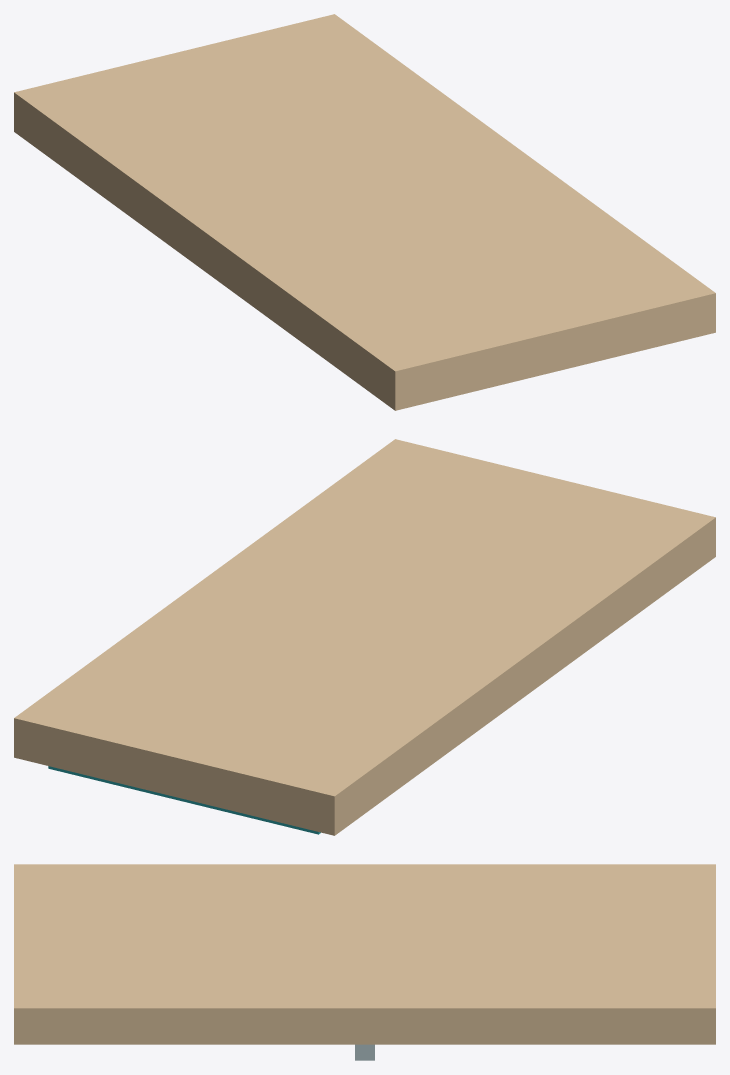
The model's file is door-interior-exterior.glb.
3 renders of one model, top to bottom at view 1: azimuth 30°, elevation 25°; view 2: azimuth 150°, elevation 25°; view 3: azimuth 270°, elevation 25°, orthographic. The views are drawn at different scales.
Parts seen in each view (by area): view 1: world; view 2: world; view 3: world.
Part boxes in pixels (bbox=[...]): world: bbox=[14, 14, 715, 410]; world: bbox=[14, 439, 715, 835]; world: bbox=[14, 864, 715, 1060].
Size of the model in its own units: 1.02 by 0.21 by 2.1.
